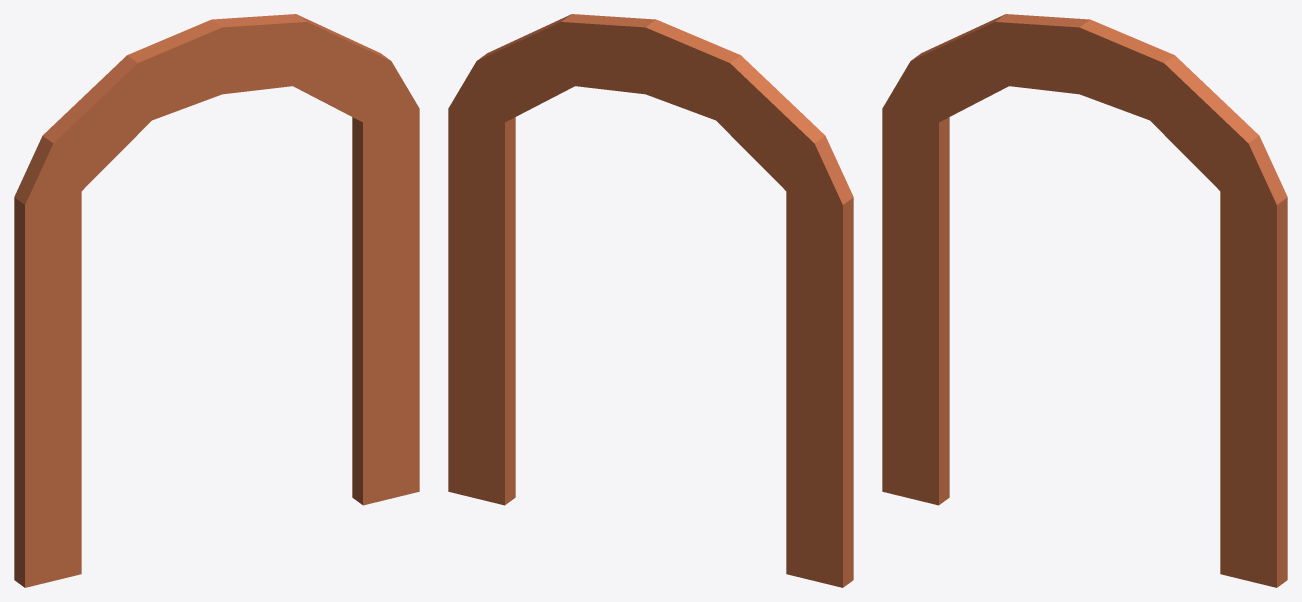
The model's file is Shop_Gate_1.FBX.
3 views of the same model, side by side, from view 1: azimuth 30°, elevation 25°; view 2: azimuth 150°, elevation 25°; view 3: azimuth 330°, elevation 25° (orthographic).
Visible parts, largest first — view 1: Shop Gate 01; view 2: Shop Gate 01; view 3: Shop Gate 01.
Part boxes in pixels (box(x1,y1,x2,y2)): Shop Gate 01: box(14, 14, 419, 587); Shop Gate 01: box(448, 14, 853, 587); Shop Gate 01: box(882, 14, 1287, 587).
Size of the model in its own units: 2.59 by 3.21 by 0.1232.
1 material, 1 textured.
